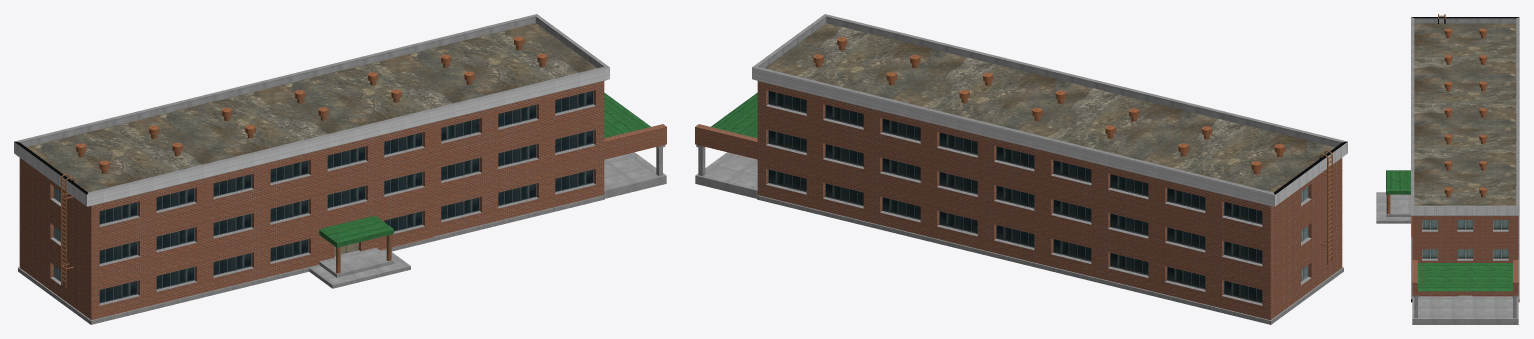
The model's file is house_final.glb.
3 renders of one model, left to right at view 1: azimuth 30°, elevation 25°; view 2: azimuth 150°, elevation 25°; view 3: azimuth 270°, elevation 25°, orthographic. The views are drawn at different scales.
Parts seen in each view (by area): view 1: Building; view 2: Building; view 3: Building.
Part boxes in pixels (<box>): Building: <box>14,14,666,324</box>; Building: <box>695,14,1347,324</box>; Building: <box>1376,14,1519,324</box>.
Bounding box in the file's own units: 46.54 × 10.27 × 13.31.
Materials: 1 (1 with a texture image).
